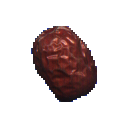gd: (19, 21, 128, 119)
